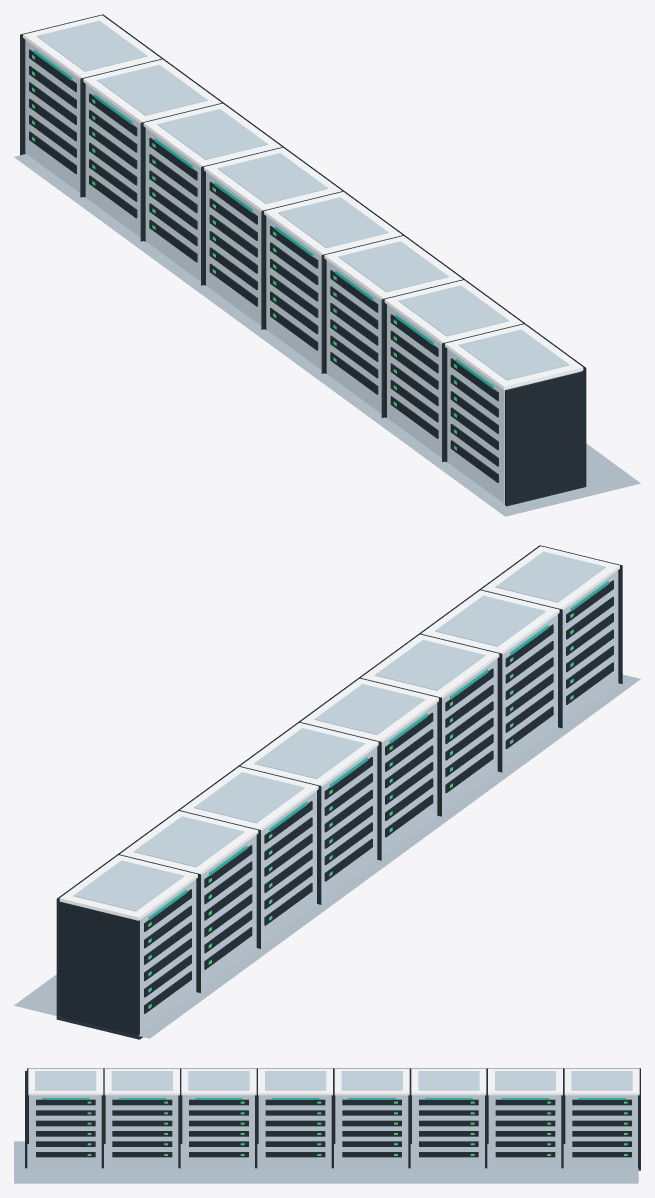
File: rack.glb
3 views of the same model, one above another, from view 1: azimuth 30°, elevation 25°; view 2: azimuth 150°, elevation 25°; view 3: azimuth 270°, elevation 25° (orthographic). The views are drawn at different scales.
Parts seen in each view (by area): view 1: rack-row; view 2: rack-row; view 3: rack-row.
Boxes of the visible parts, left/top/right/bottom form: rack-row: left=14, top=14, right=640, bottom=516; rack-row: left=14, top=545, right=640, bottom=1039; rack-row: left=14, top=1068, right=640, bottom=1183.
Bounding box in the file's own units: 2.6 × 2.23 × 16.37.
